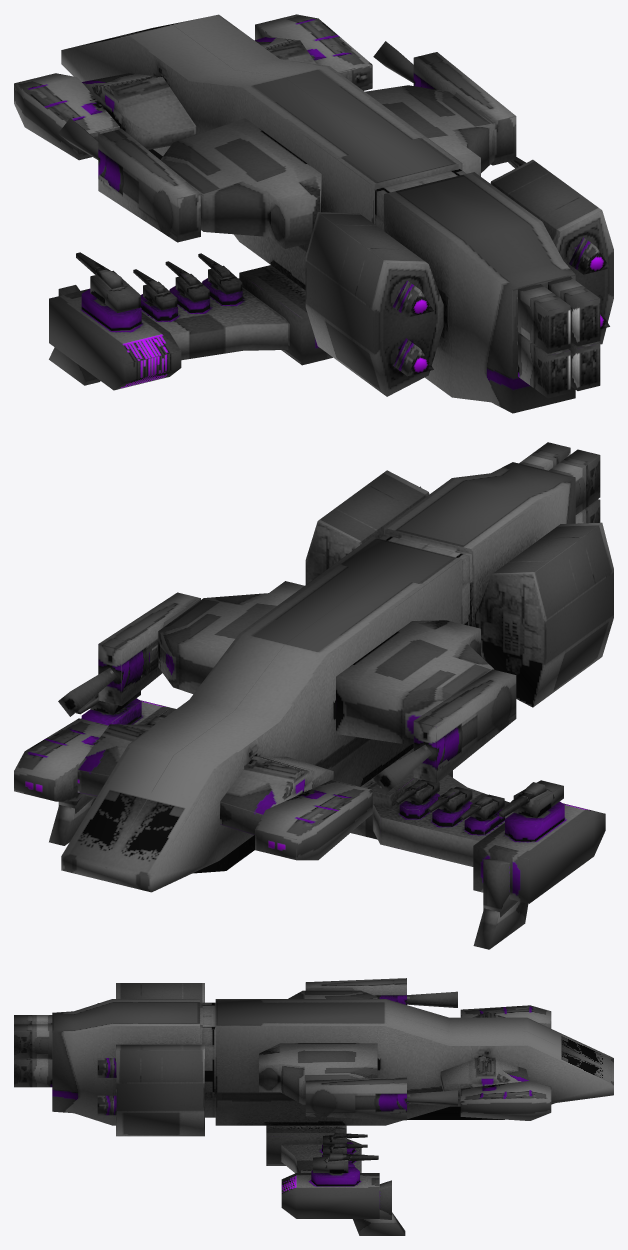
File: PBattleship.fbx
The picture shows the model from 3 angles, top to bottom: view 1: azimuth 30°, elevation 25°; view 2: azimuth 150°, elevation 25°; view 3: azimuth 270°, elevation 25°; orthographic projection. The views are drawn at different scales.
Parts seen in each view (by area): view 1: PBattleshipMod; view 2: PBattleshipMod; view 3: PBattleshipMod.
Boxes of the visible parts, x1,y1,x2,y2 form: PBattleshipMod: (14,14,613,413); PBattleshipMod: (14,442,613,949); PBattleshipMod: (14,978,613,1235).
Bounding box in the file's own units: 22.22 × 10.61 × 37.48.
Materials: 1 (1 with a texture image).
